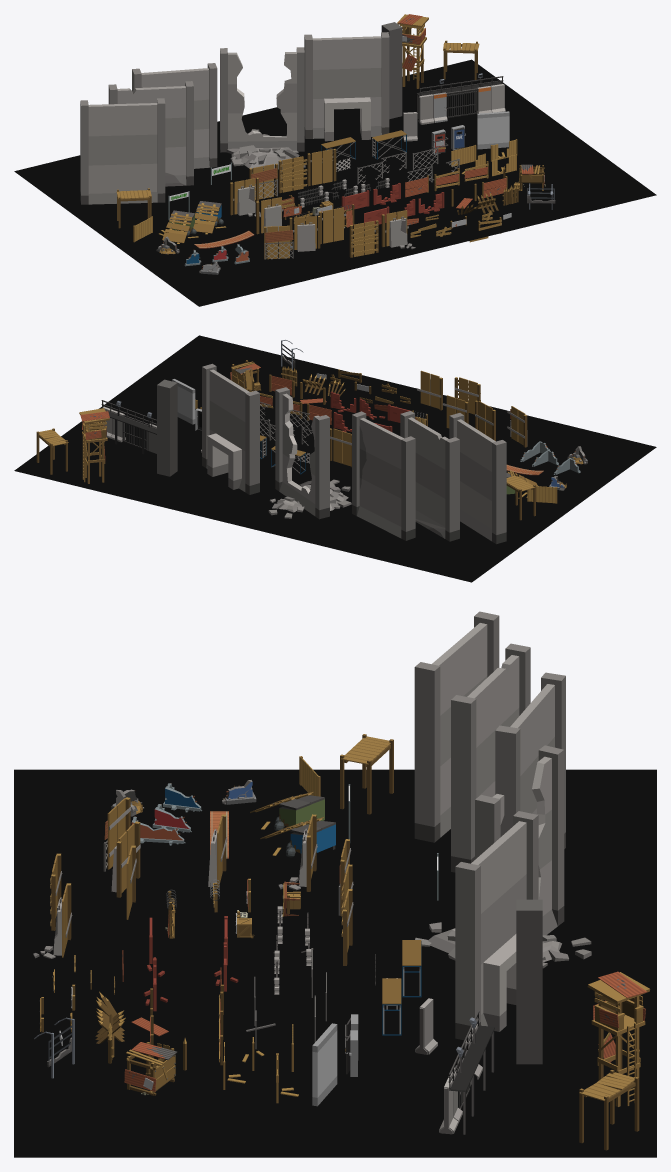
The picture shows the model from 3 angles, top to bottom: view 1: azimuth 30°, elevation 25°; view 2: azimuth 150°, elevation 25°; view 3: azimuth 270°, elevation 25°; orthographic projection. The views are drawn at different scales.
Visible parts, largest first — view 1: huitugou_2015_01, huitugou_2015_67, huitugou_2015_61, huitugou_2015_63, huitugou_2015_66, huitugou_2015_65, huitugou_2015_10, huitugou_2015_17, huitugou_2015_64, huitugou_2015_62, huitugou_2015_52, huitugou_2015_53 (+15 smaller); view 2: huitugou_2015_01, huitugou_2015_65, huitugou_2015_61, huitugou_2015_67, huitugou_2015_63, huitugou_2015_66, huitugou_2015_64, huitugou_2015_17, huitugou_2015_10, huitugou_2015_51, huitugou_2015_45, huitugou_2015_62 (+9 smaller); view 3: huitugou_2015_01, huitugou_2015_61, huitugou_2015_67, huitugou_2015_66, huitugou_2015_63, huitugou_2015_65, huitugou_2015_17, huitugou_2015_64, huitugou_2015_10, huitugou_2015_16, huitugou_2015_02, huitugou_2015_03 (+11 smaller).
Part boxes in pixels (box(x1,y1,x2,y2)): huitugou_2015_01: box(14, 59, 656, 306); huitugou_2015_67: box(80, 98, 165, 204); huitugou_2015_61: box(304, 32, 389, 141); huitugou_2015_63: box(220, 47, 304, 170); huitugou_2015_66: box(108, 81, 193, 186); huitugou_2015_65: box(132, 63, 217, 168); huitugou_2015_10: box(416, 73, 505, 124); huitugou_2015_17: box(397, 14, 428, 88); huitugou_2015_64: box(381, 22, 402, 119); huitugou_2015_62: box(477, 111, 509, 149); huitugou_2015_52: box(230, 177, 260, 217); huitugou_2015_53: box(289, 216, 320, 251); huitugou_2015_01: box(14, 335, 656, 582); huitugou_2015_65: box(352, 411, 415, 540); huitugou_2015_61: box(202, 363, 259, 494); huitugou_2015_67: box(449, 413, 506, 544); huitugou_2015_63: box(268, 387, 351, 519); huitugou_2015_66: box(400, 411, 459, 541); huitugou_2015_64: box(157, 379, 177, 476); huitugou_2015_17: box(79, 408, 109, 483); huitugou_2015_10: box(101, 400, 156, 454); huitugou_2015_51: box(417, 370, 442, 410); huitugou_2015_45: box(330, 428, 351, 467); huitugou_2015_62: box(172, 379, 195, 424); huitugou_2015_01: box(14, 769, 656, 1157); huitugou_2015_61: box(455, 811, 538, 1040); huitugou_2015_67: box(414, 611, 499, 842); huitugou_2015_66: box(451, 643, 530, 872); huitugou_2015_63: box(415, 745, 591, 968); huitugou_2015_65: box(495, 672, 565, 848); huitugou_2015_17: box(587, 971, 650, 1106); huitugou_2015_64: box(516, 899, 542, 1064); huitugou_2015_10: box(439, 1010, 494, 1134); huitugou_2015_16: box(124, 1042, 177, 1095); huitugou_2015_02: box(579, 1070, 639, 1150); huitugou_2015_03: box(340, 734, 393, 814).
Bounding box in the file's own units: 9396 × 2128 × 6582.
2 materials, 1 textured.
